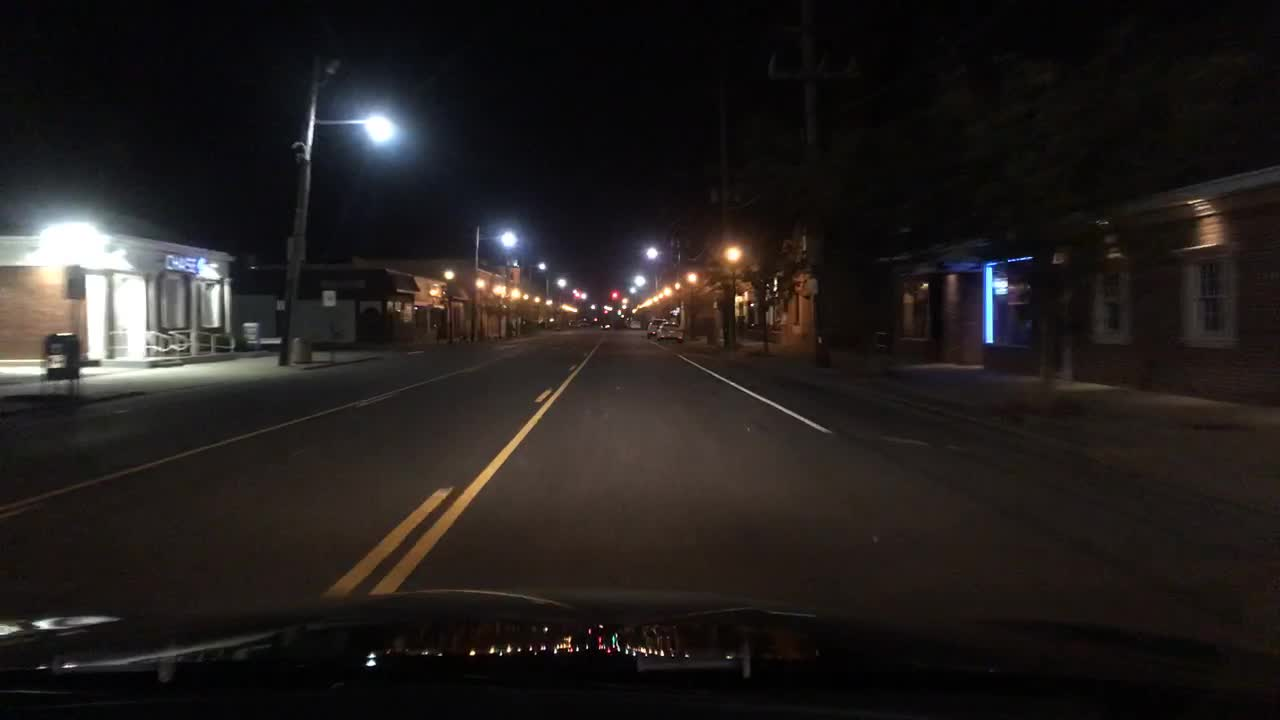car: (654, 320, 685, 343), (643, 316, 665, 339), (627, 316, 643, 332), (567, 318, 581, 329), (597, 320, 614, 329)
traffic sign: (321, 288, 337, 307)
